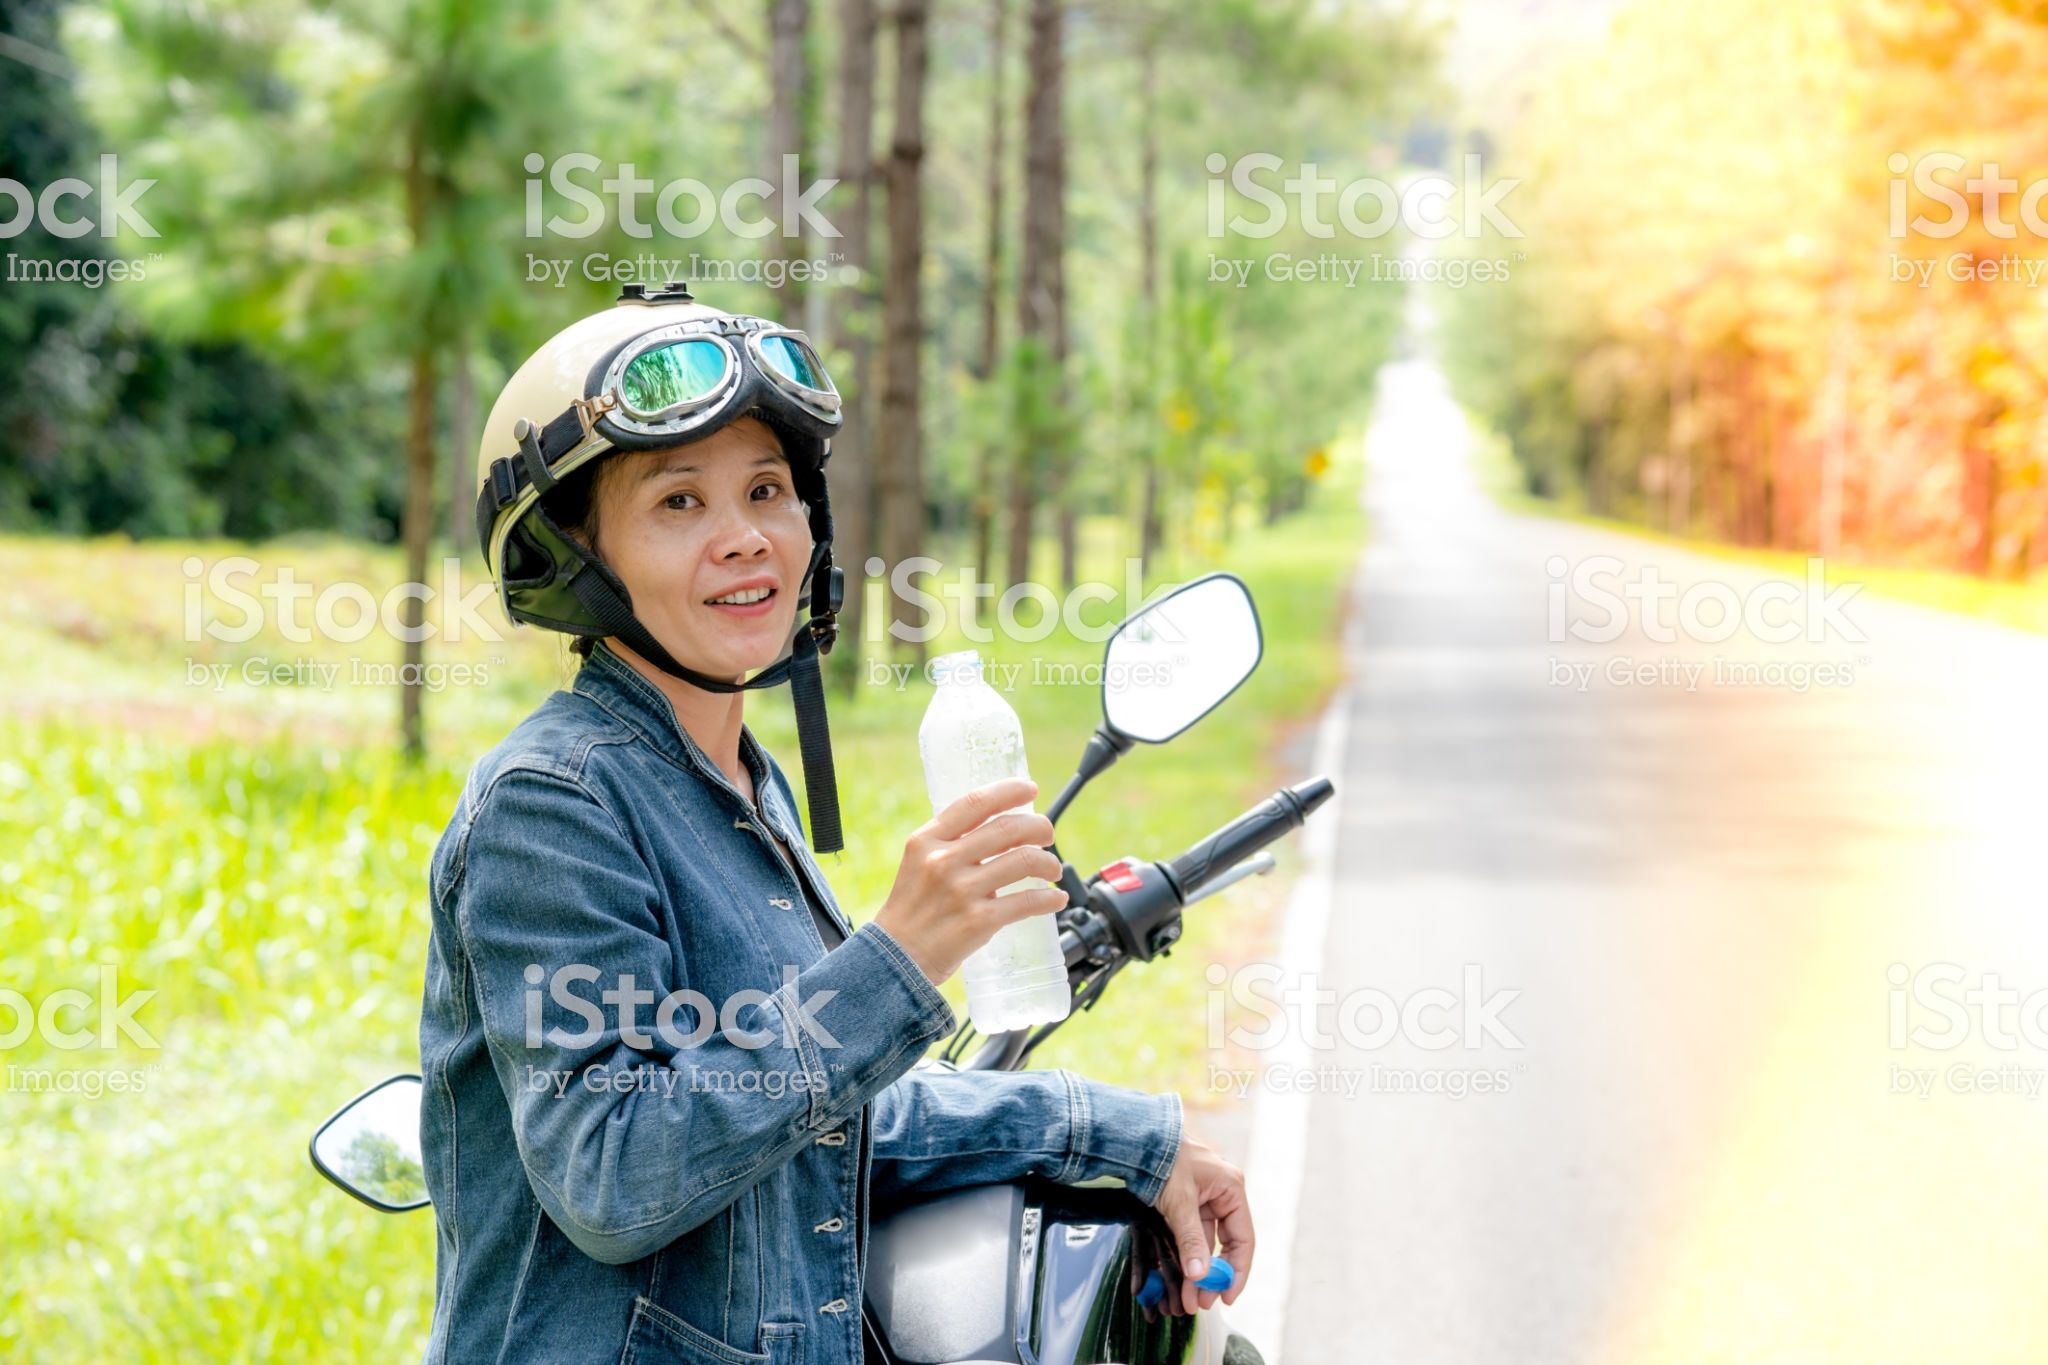helmet: (440, 283, 844, 462)
